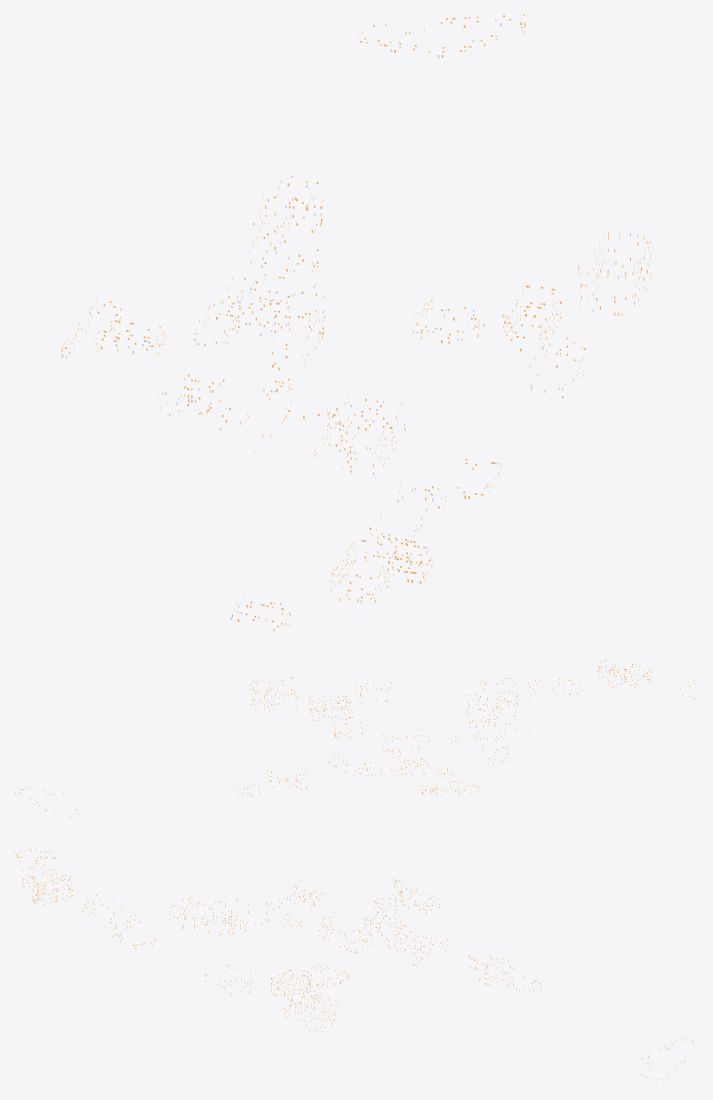
The model's file is buildings-medical-lights-night.glb.
The picture shows the model from 3 angles, top to bottom: view 1: azimuth 30°, elevation 25°; view 2: azimuth 150°, elevation 25°; view 3: azimuth 270°, elevation 25°; orthographic projection. The views are drawn at different scales.
Visible parts, largest first — view 1: buildings-medical-lights-night; view 2: buildings-medical-lights-night; view 3: buildings-medical-lights-night.
Boxes of the visible parts, x1,y1,x2,y2 form: buildings-medical-lights-night: (61,14,650,631); buildings-medical-lights-night: (14,660,696,817); buildings-medical-lights-night: (14,846,698,1084).
Size of the model in its own units: 757 by 42.6 by 937.
